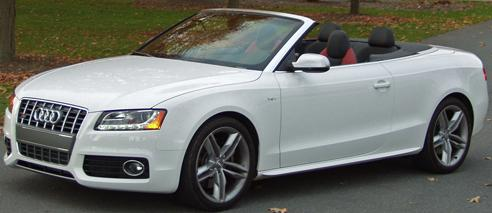front_view: (2, 84, 171, 193)
headlight: (93, 104, 169, 137)
